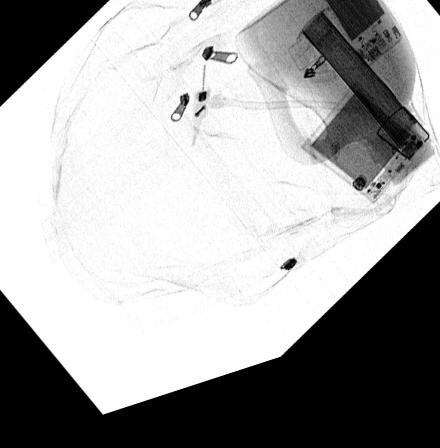Powerbank: (298, 100, 424, 228), (311, 0, 405, 93)
